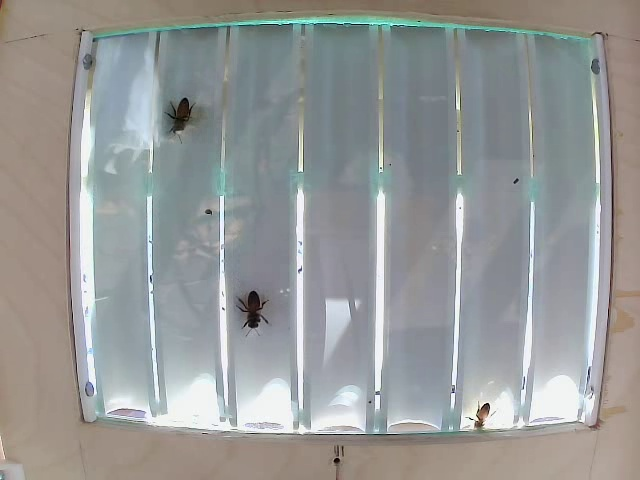bee: (230, 283, 280, 339), (161, 100, 213, 144)
